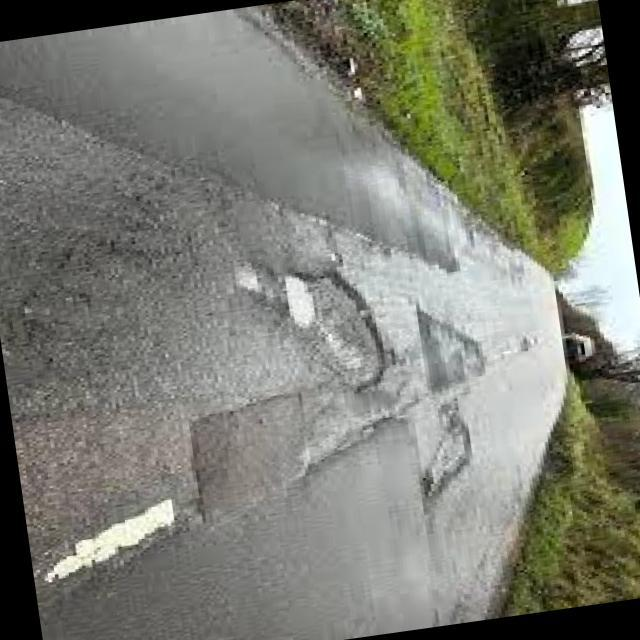pothole: (311, 258, 397, 400), (417, 393, 478, 484), (274, 258, 322, 337)
